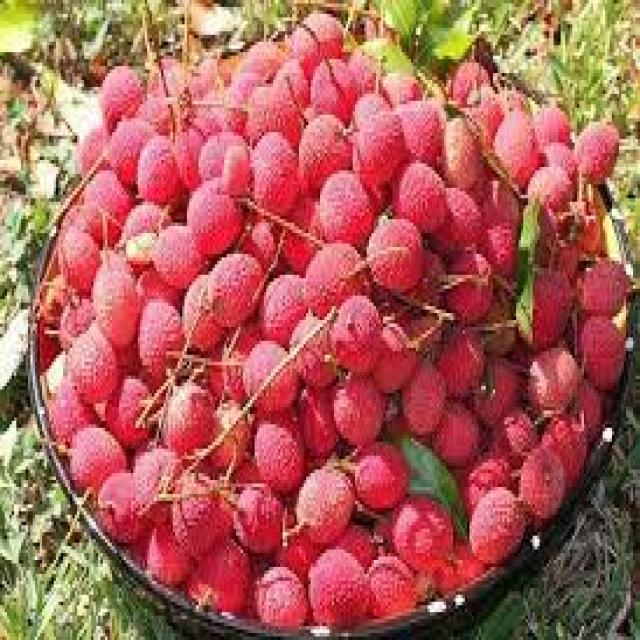lychee: (89, 64, 592, 552)
